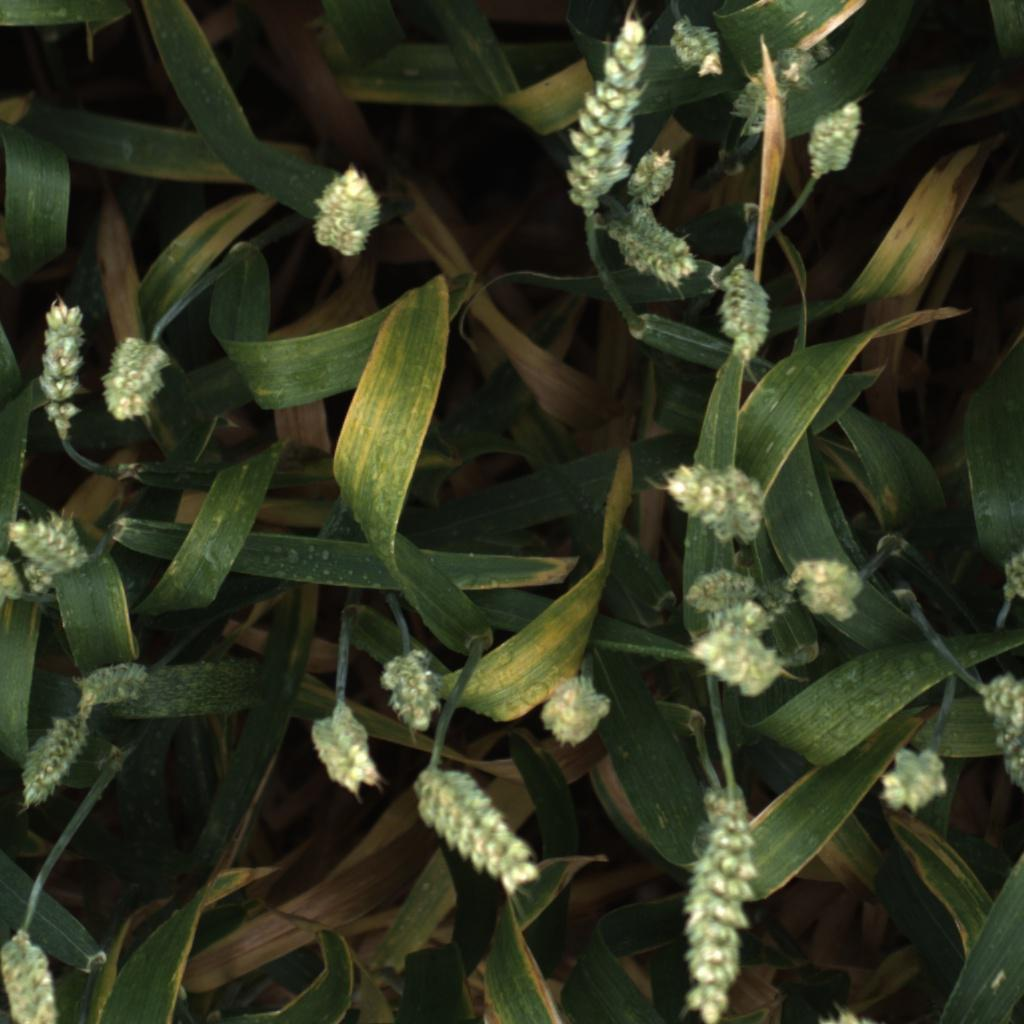0-0: (667, 787, 758, 1024), (552, 8, 652, 207), (410, 770, 540, 895), (733, 38, 838, 140), (664, 461, 767, 547), (26, 297, 90, 433), (15, 710, 96, 814), (607, 206, 698, 290), (310, 706, 388, 802), (686, 631, 783, 707), (679, 566, 787, 634), (308, 163, 384, 259), (7, 510, 95, 590), (95, 335, 170, 423), (872, 739, 955, 818), (536, 671, 615, 751), (779, 554, 863, 629), (380, 651, 450, 739), (1, 933, 70, 1021), (712, 263, 771, 363), (801, 97, 873, 177), (664, 10, 728, 89), (981, 677, 1023, 797), (68, 652, 148, 712), (629, 140, 678, 201), (0, 543, 26, 605)
